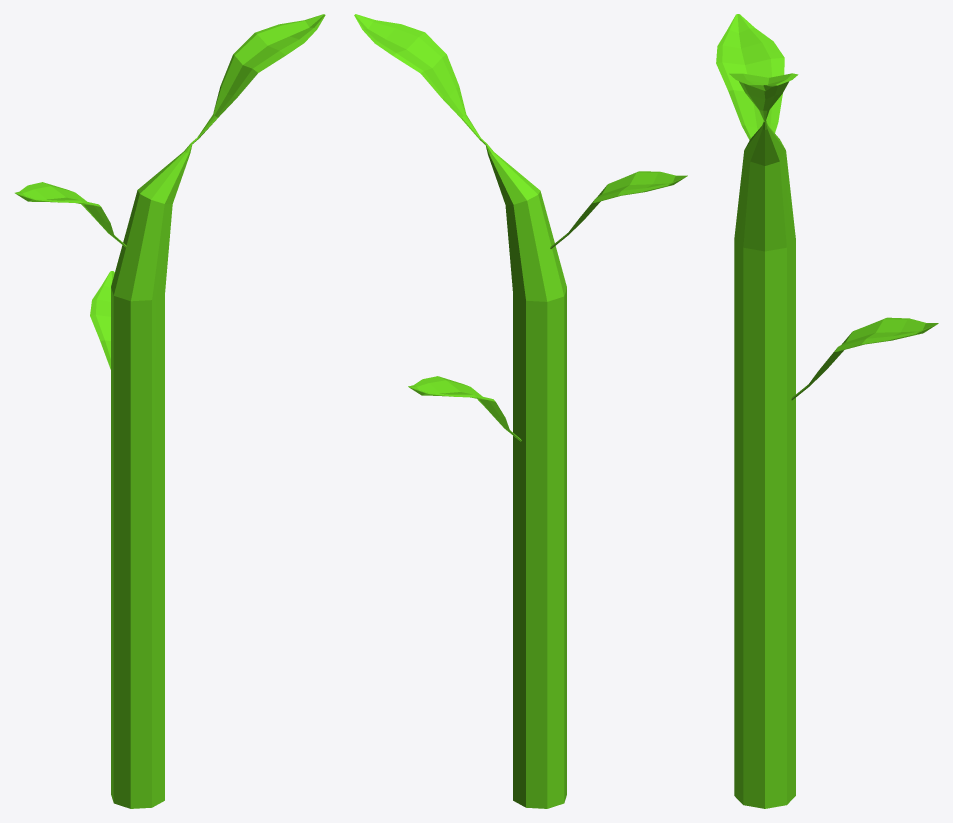
File: plant.fbx
The picture shows the model from 3 angles, left to right: view 1: azimuth 30°, elevation 25°; view 2: azimuth 150°, elevation 25°; view 3: azimuth 270°, elevation 25°; orthographic projection. The views are drawn at different scales.
Visible parts, largest first — view 1: Plant; view 2: Plant; view 3: Plant.
Part boxes in pixels (x1=…): Plant: x1=15, y1=14, x2=325, y2=808; Plant: x1=354, y1=14, x2=687, y2=808; Plant: x1=716, y1=14, x2=938, y2=808.
Bounding box in the file's own units: 21.04 × 46.17 × 11.5.
